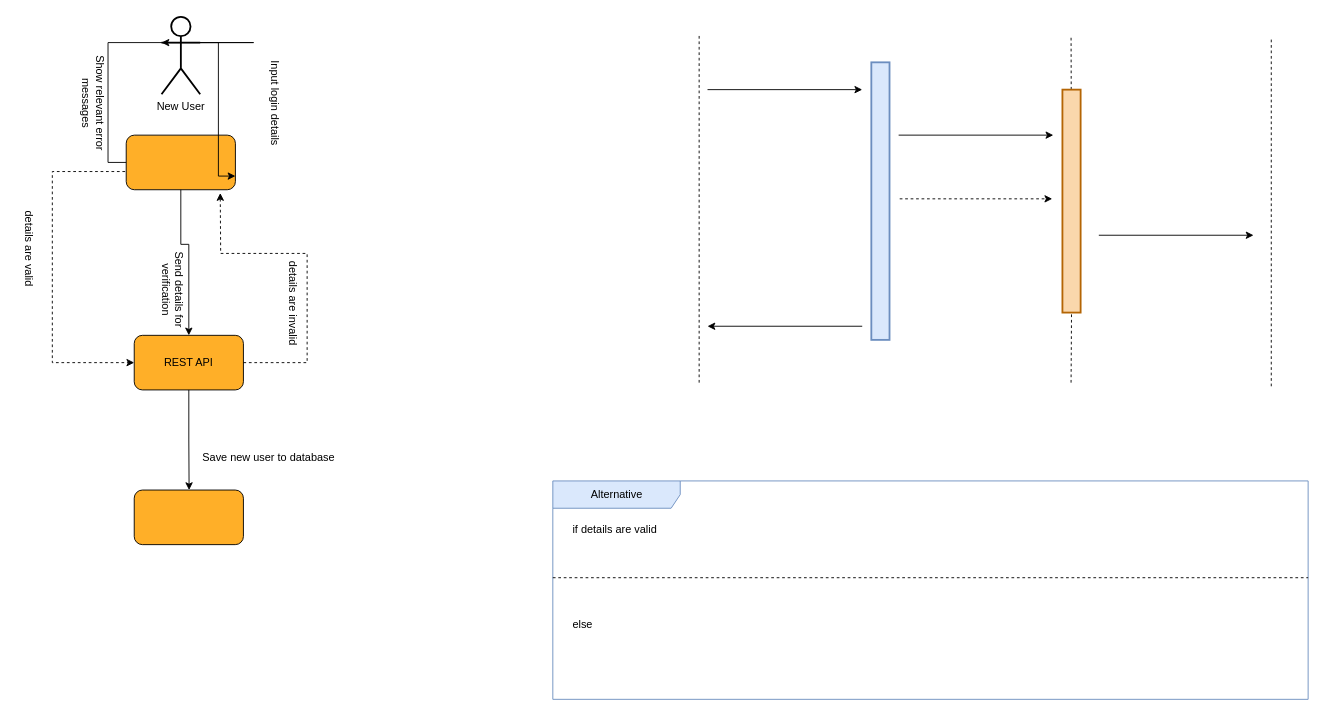
The diagram is 1324 pixels wide and 715 high, and some of its shapes have lost their labels. Each missing label, with the box of its shape:
Database: (133, 489, 243, 545)
Frontend: (125, 134, 235, 190)
